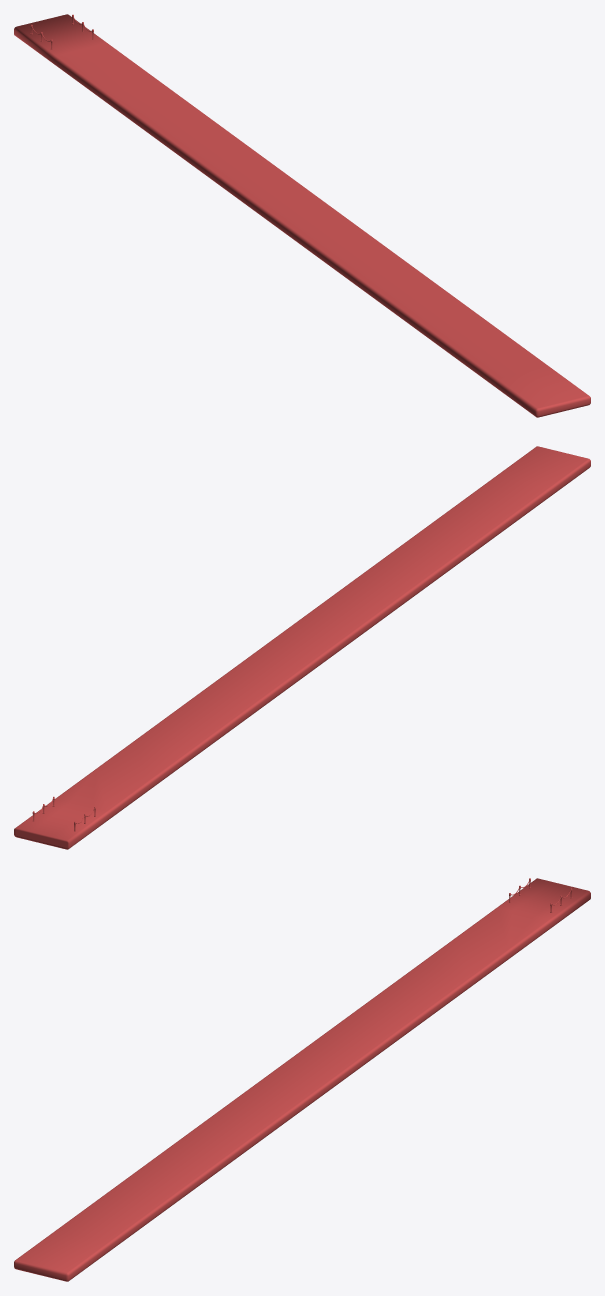
File: Platform 1.fbx
3 renders of one model, top to bottom at view 1: azimuth 30°, elevation 25°; view 2: azimuth 150°, elevation 25°; view 3: azimuth 330°, elevation 25°, orthographic.
Parts seen in each view (by area): view 1: Retopo_Sweep; view 2: Retopo_Sweep; view 3: Retopo_Sweep.
Boxes of the visible parts, x1,y1,x2,y2 form: Retopo_Sweep: (14,14,590,417); Retopo_Sweep: (14,446,590,849); Retopo_Sweep: (14,878,590,1281).
Size of the model in its own units: 1259 by 405 by 20593.
